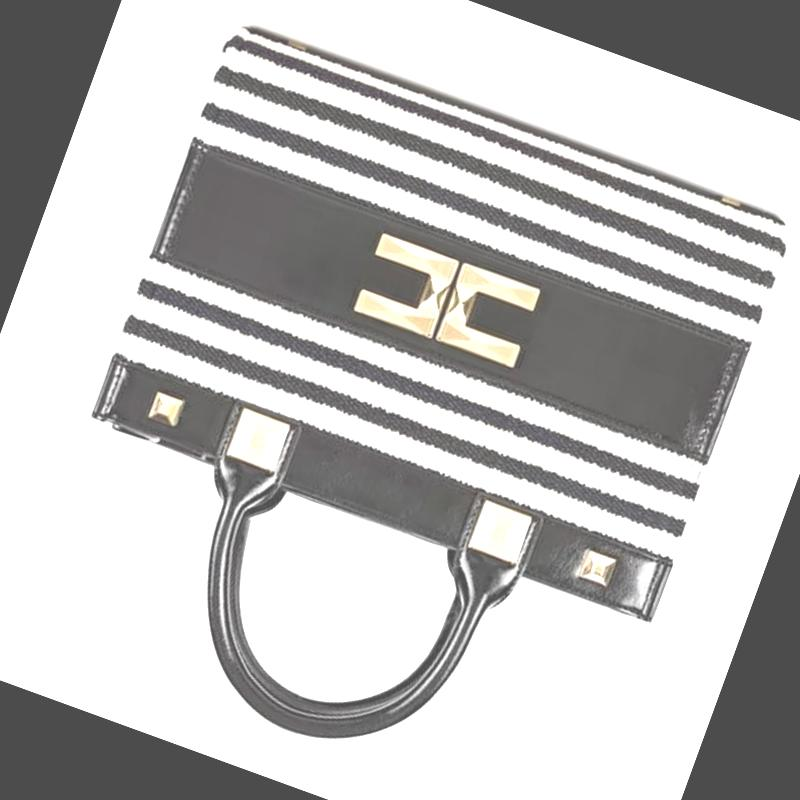ELISABETTA-FRANCHI: (334, 210, 562, 388)
